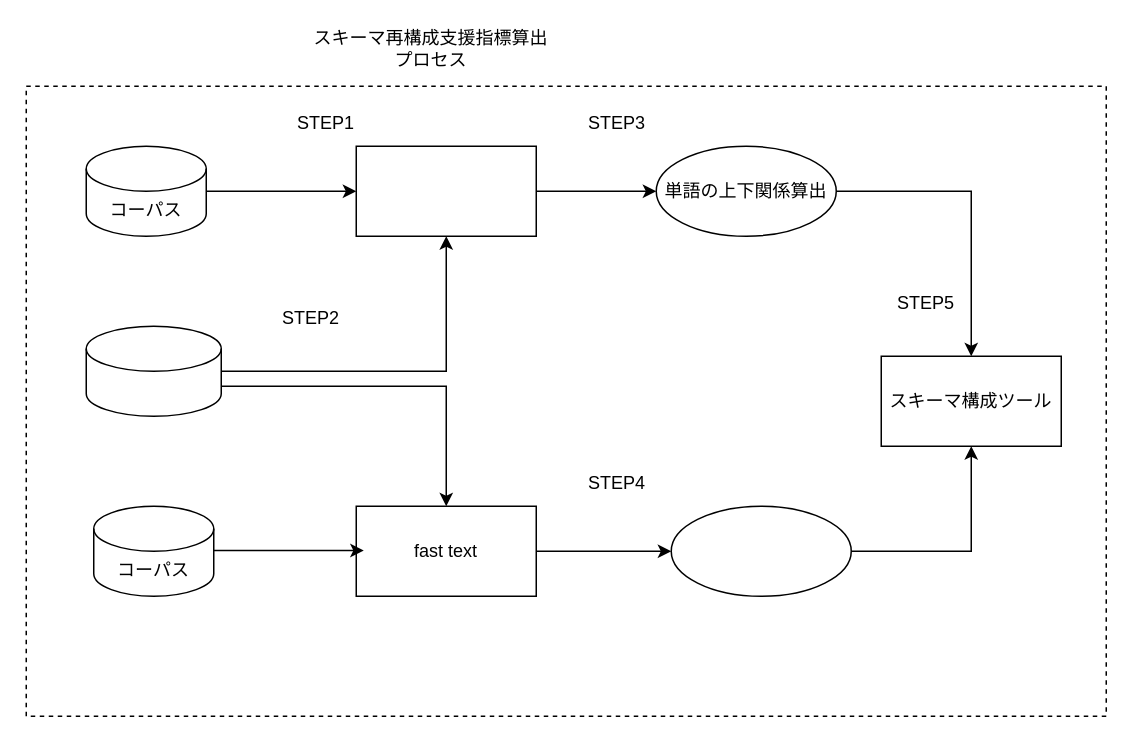
Some shapes in this 1133 by 743 pixel diagram are drawn without their labels. Here are the shapes that lost their labels. From the top down, the centre of each, then its label:
At point (445, 190): "sketch engine".
At point (153, 370): "mongoDB (JSON Data)".
At point (760, 550): "単語間の距離作成".
